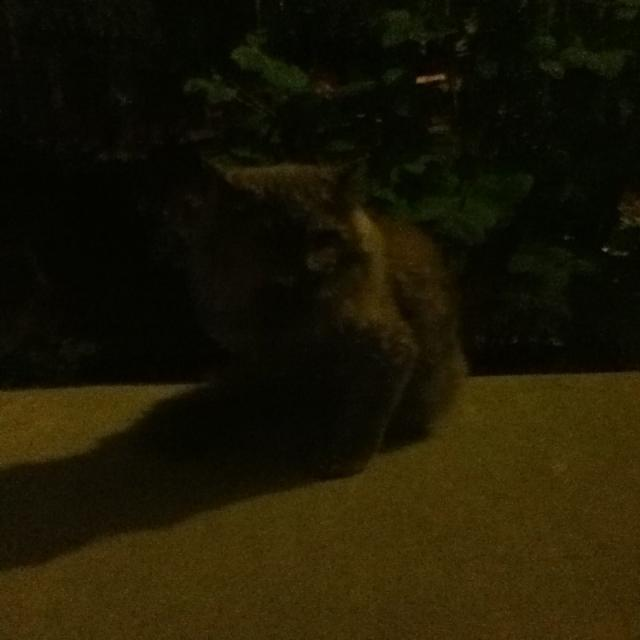Cat: (138, 144, 495, 489)
